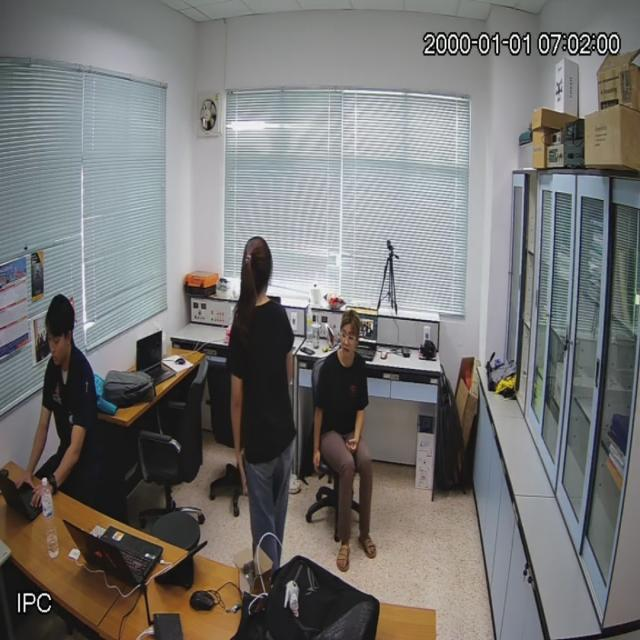normal: (224, 237, 294, 564), (19, 296, 104, 512), (316, 312, 376, 570)
